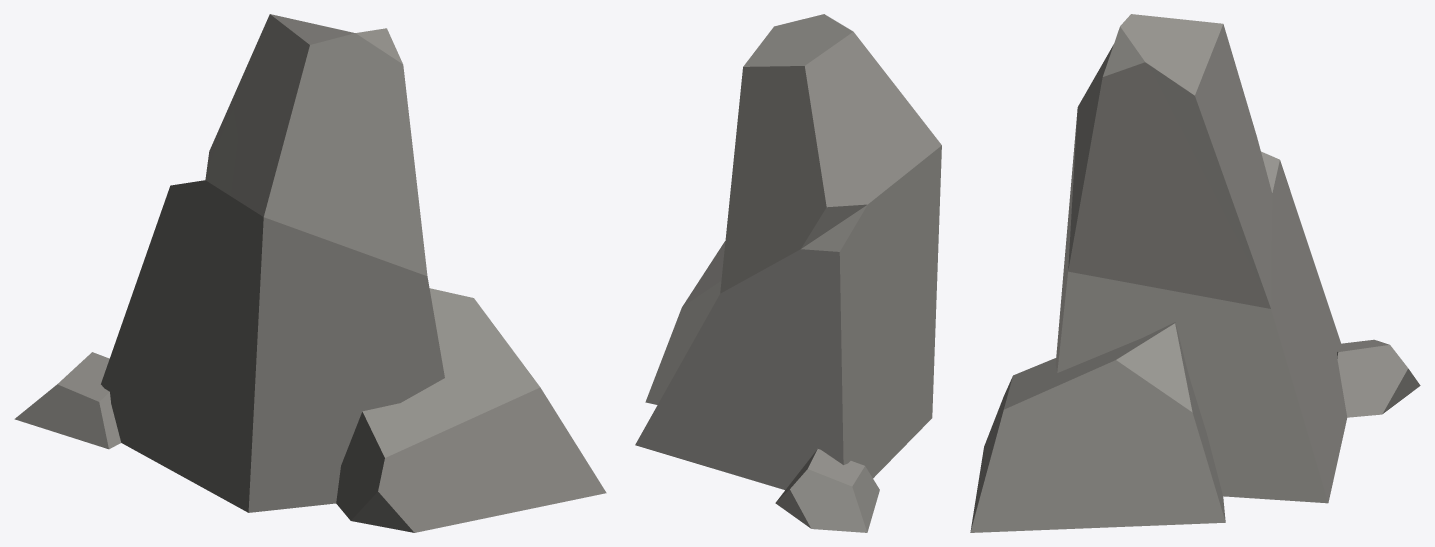
File: big_rock.glb
The picture shows the model from 3 angles, left to right: view 1: azimuth 30°, elevation 25°; view 2: azimuth 150°, elevation 25°; view 3: azimuth 270°, elevation 25°; orthographic projection. The views are drawn at different scales.
Parts seen in each view (by area): view 1: big_rock; view 2: big_rock; view 3: big_rock.
Part boxes in pixels (<box>): big_rock: <box>14,14,606,532</box>; big_rock: <box>635,14,941,532</box>; big_rock: <box>970,14,1420,532</box>.
Bounding box in the file's own units: 1.45 × 1.67 × 1.6.
Materials: 1 (1 with a texture image).
